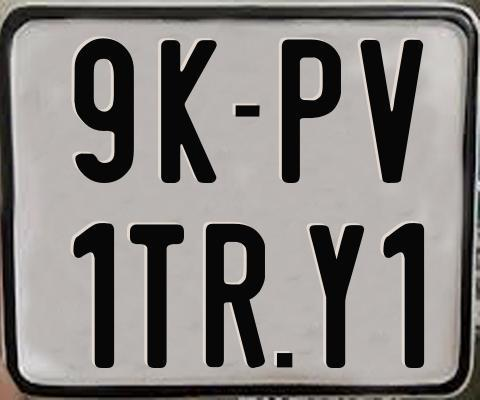1: (71, 223, 116, 373), (380, 221, 421, 370)
9: (73, 38, 138, 188)
K: (161, 39, 217, 186)
P: (281, 39, 342, 189)
R: (206, 222, 265, 366)
T: (127, 221, 182, 369)
V: (359, 40, 427, 185)
Y: (307, 222, 364, 368)
